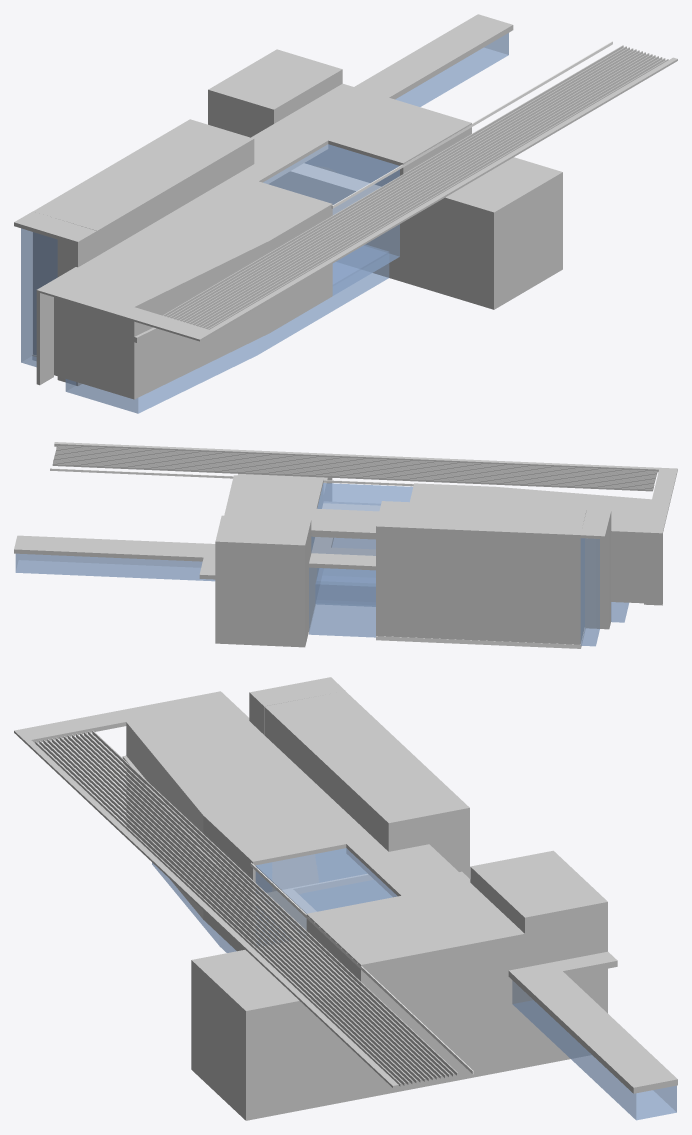
File: opt2-massing.glb
The picture shows the model from 3 angles, top to bottom: view 1: azimuth 30°, elevation 25°; view 2: azimuth 150°, elevation 25°; view 3: azimuth 270°, elevation 25°; orthographic projection. The views are drawn at different scales.
Parts seen in each view (by area): view 1: bakedOpt2Massing; view 2: bakedOpt2Massing; view 3: bakedOpt2Massing.
Part boxes in pixels (left/top/right/bottom): bakedOpt2Massing: left=14, top=14, right=677, bottom=413; bakedOpt2Massing: left=14, top=442, right=677, bottom=648; bakedOpt2Massing: left=14, top=677, right=677, bottom=1120.
Size of the model in its own units: 419 by 84.97 by 298.
